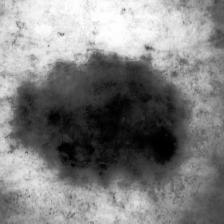Benign Marking or Mole: (10, 48, 186, 182)
